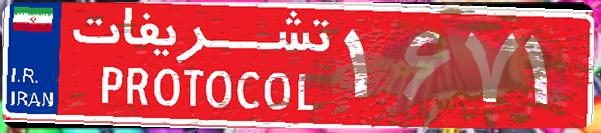1: (340, 20, 400, 115), (520, 20, 580, 115)
6: (400, 20, 460, 115)
7: (460, 20, 520, 115)
تشریفات: (60, 8, 340, 125)
